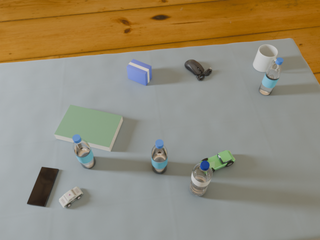book: (54, 105, 123, 151)
bottle: (259, 58, 283, 95), (189, 160, 213, 196), (72, 134, 96, 169), (151, 139, 168, 174)
box: (127, 59, 152, 85)
cup: (253, 45, 278, 72)
mouse: (185, 60, 212, 80)
phone: (27, 167, 59, 207)
toy_car: (200, 150, 235, 172), (59, 187, 83, 208)
